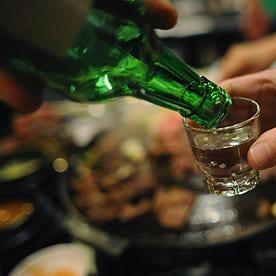soju: (3, 1, 237, 131)
